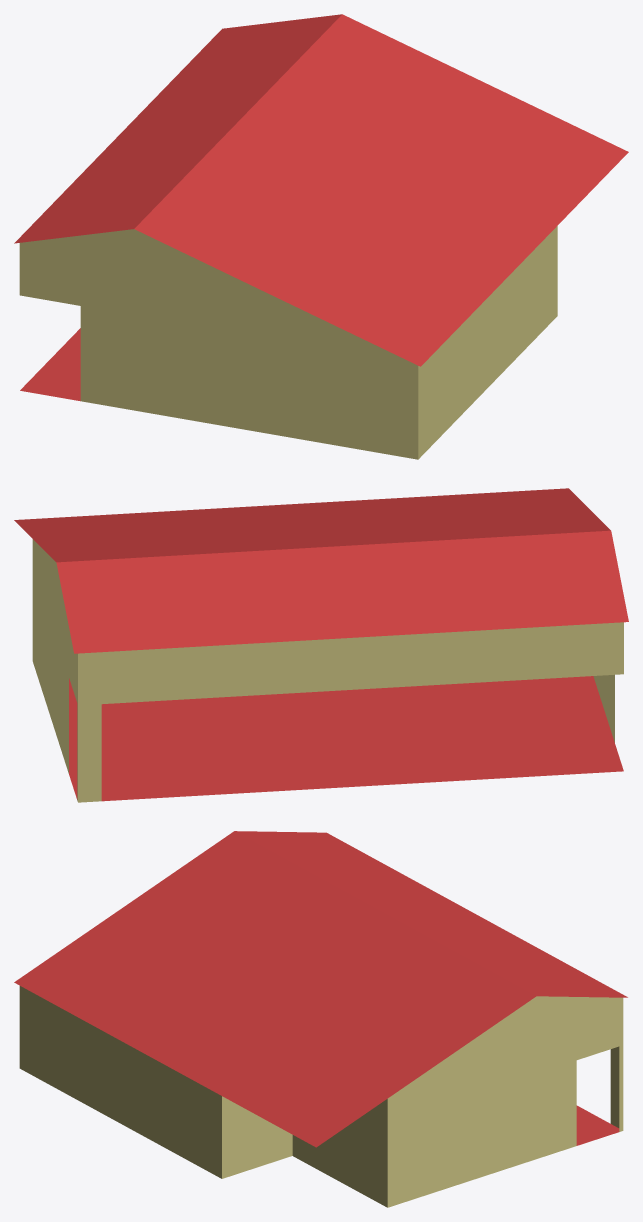
The picture shows the model from 3 angles, top to bottom: view 1: azimuth 30°, elevation 25°; view 2: azimuth 150°, elevation 25°; view 3: azimuth 270°, elevation 25°; orthographic projection. The views are drawn at different scales.
Size of the model in its own units: 39.99 by 38.87 by 11.51.
